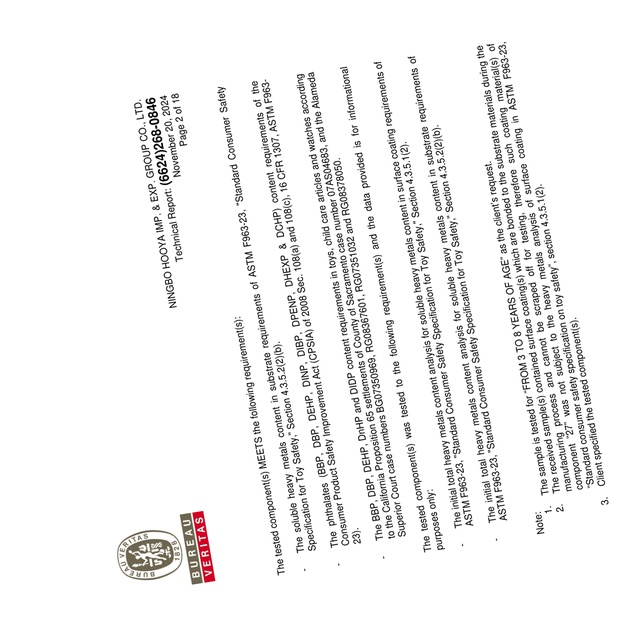bureau_veritas: (108, 503, 221, 591)
